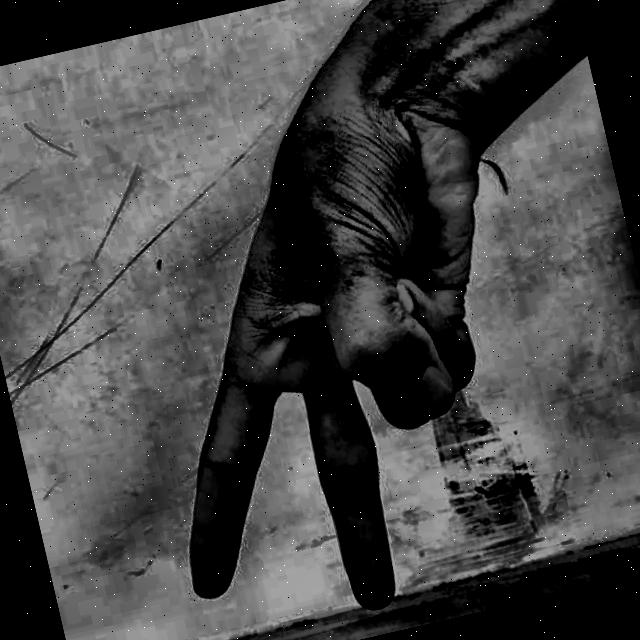Pa: (59, 34, 593, 640)
